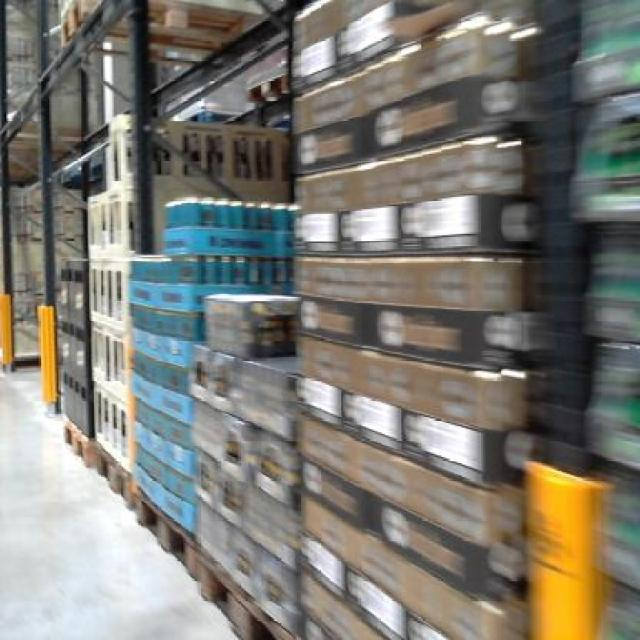pallet: (130, 473, 198, 583), (55, 402, 97, 468)
